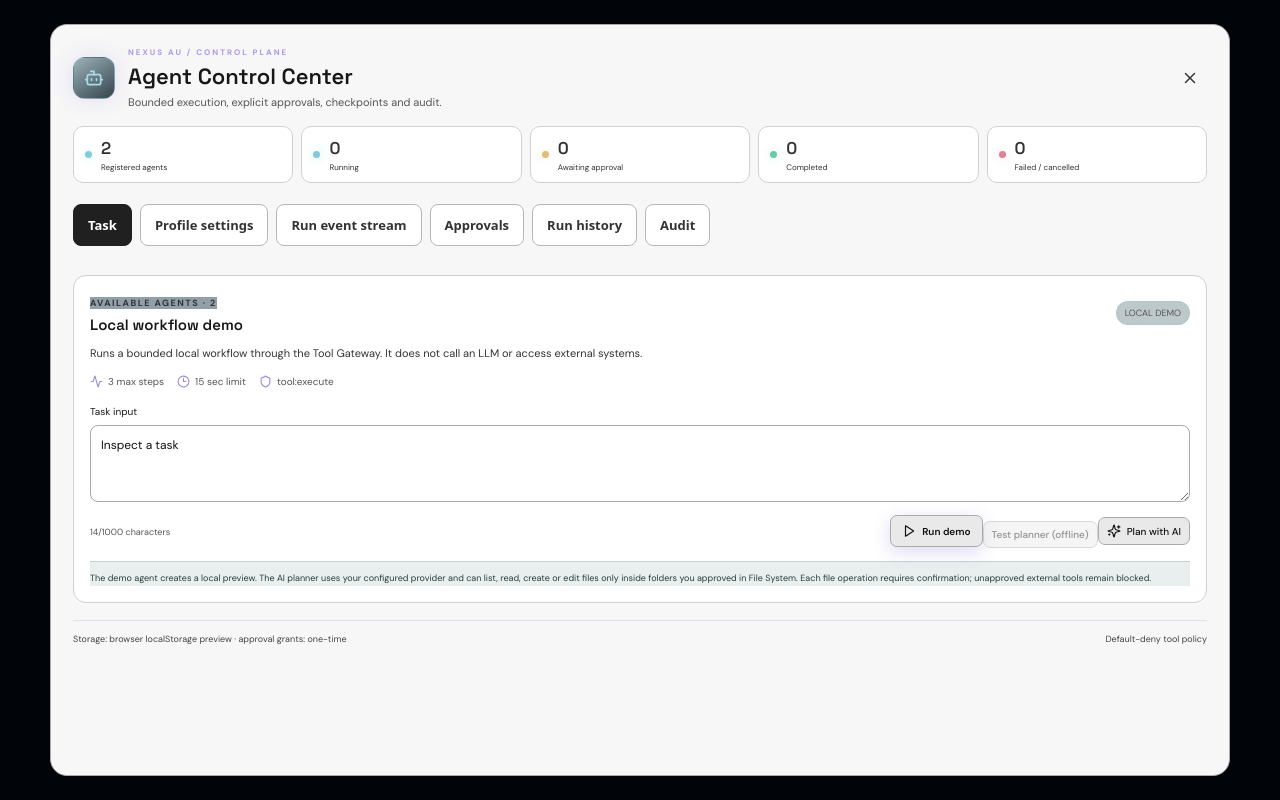
Scenario: agent center session checkpoints › keeps approval and event history scoped to a conversation without remounting
The image size is (1280, 800).
Later steps or results of the test are not shown.
Click the button "Run demo".
click(936, 531)  # box [890,515,983,547]
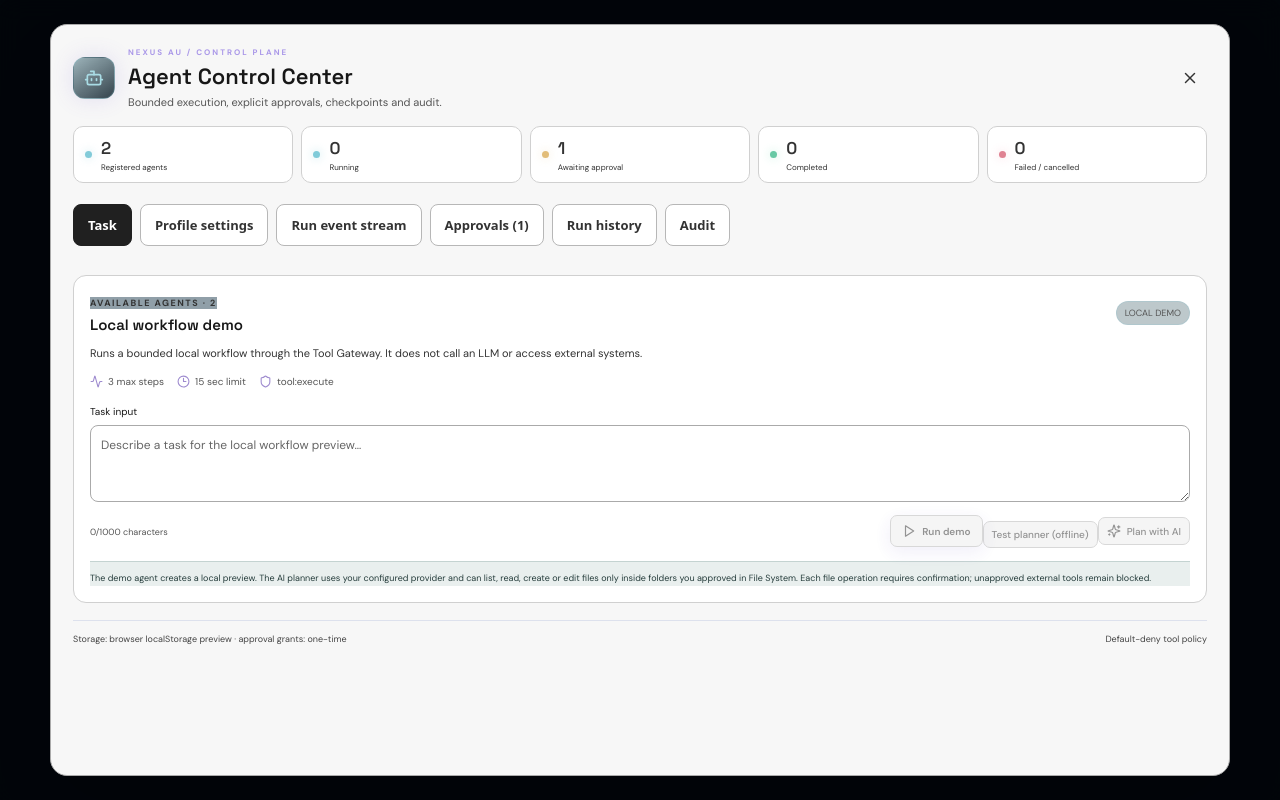
Click the button "Run event stream".
click(349, 225)  # box [276,204,422,246]
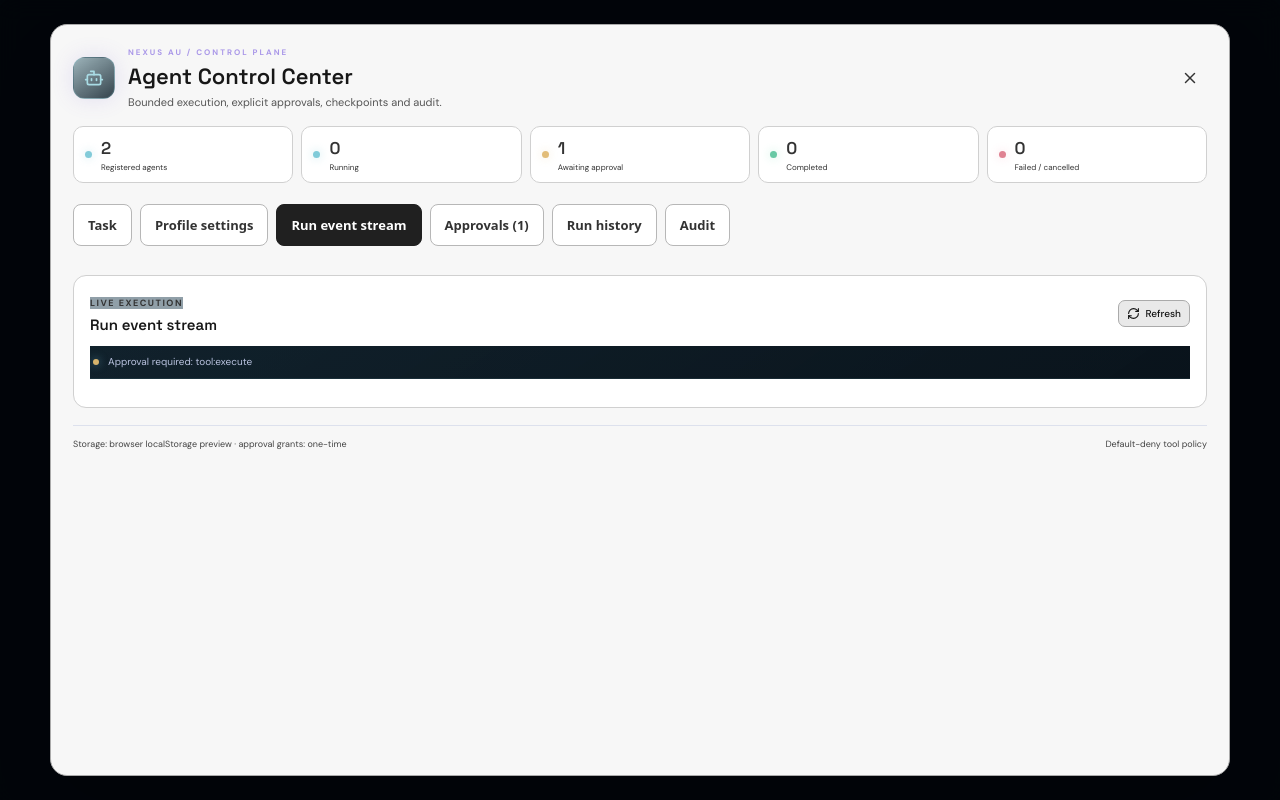
Now the element with class "agent-feed" shows "Approval required", box [108,355,252,368]
